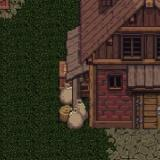Interaction: (80, 120, 148, 160)
Obstacle: (32, 0, 160, 160), (0, 0, 31, 22)
